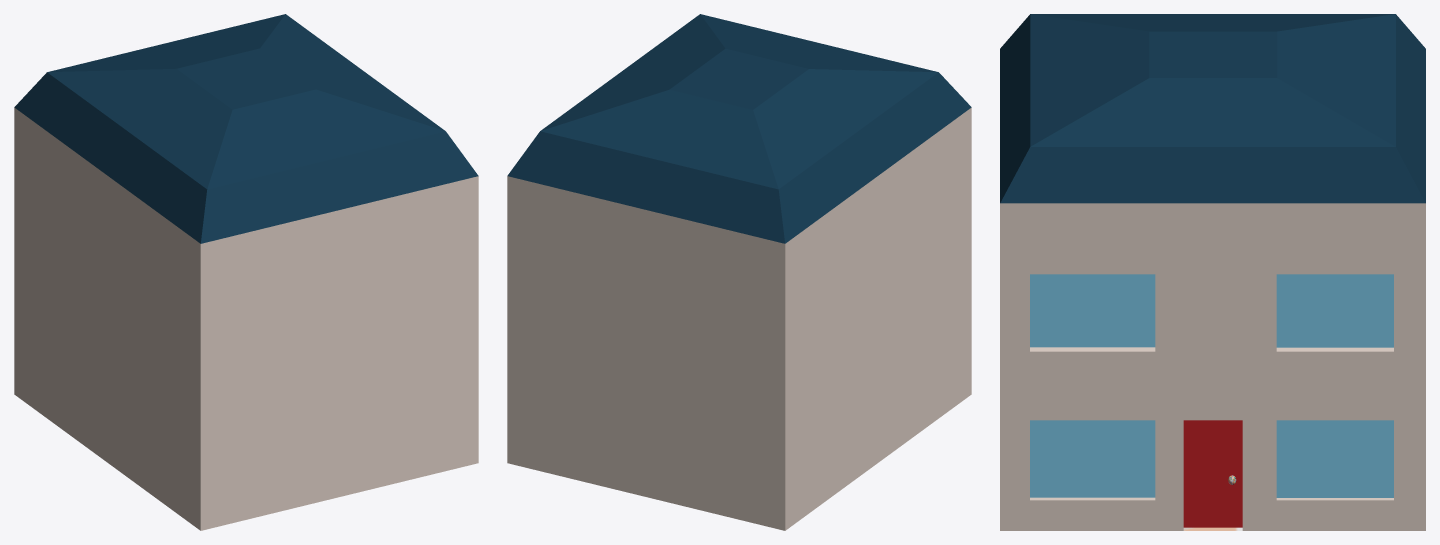
The model's file is House1.fbx.
3 renders of one model, left to right at view 1: azimuth 30°, elevation 25°; view 2: azimuth 150°, elevation 25°; view 3: azimuth 270°, elevation 25°, orthographic. The views are drawn at different scales.
Parts seen in each view (by area): view 1: Cube; view 2: Cube; view 3: Cube.
Part boxes in pixels (left/top/right/bottom): Cube: left=14, top=14, right=478, bottom=530; Cube: left=507, top=14, right=971, bottom=530; Cube: left=1000, top=14, right=1425, bottom=530.
Bounding box in the file's own units: 545 × 655 × 633.
